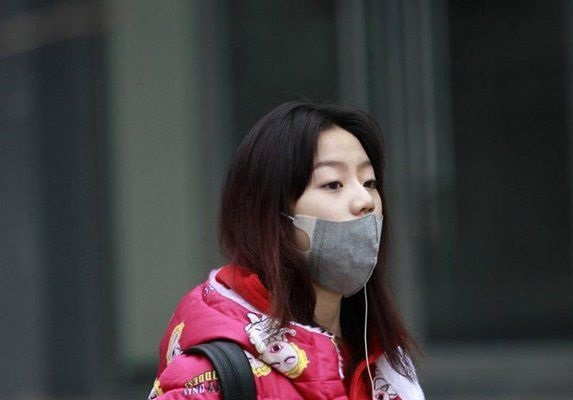face_mask: (275, 127, 383, 287)
